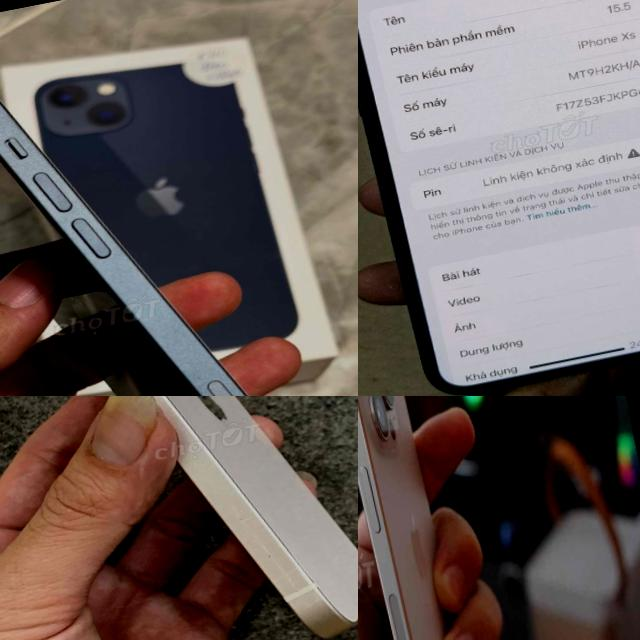gen_12_13: (0, 0, 340, 396), (0, 396, 358, 640)
gen_15: (358, 396, 508, 640)
gen_x_xs: (358, 0, 640, 396)
